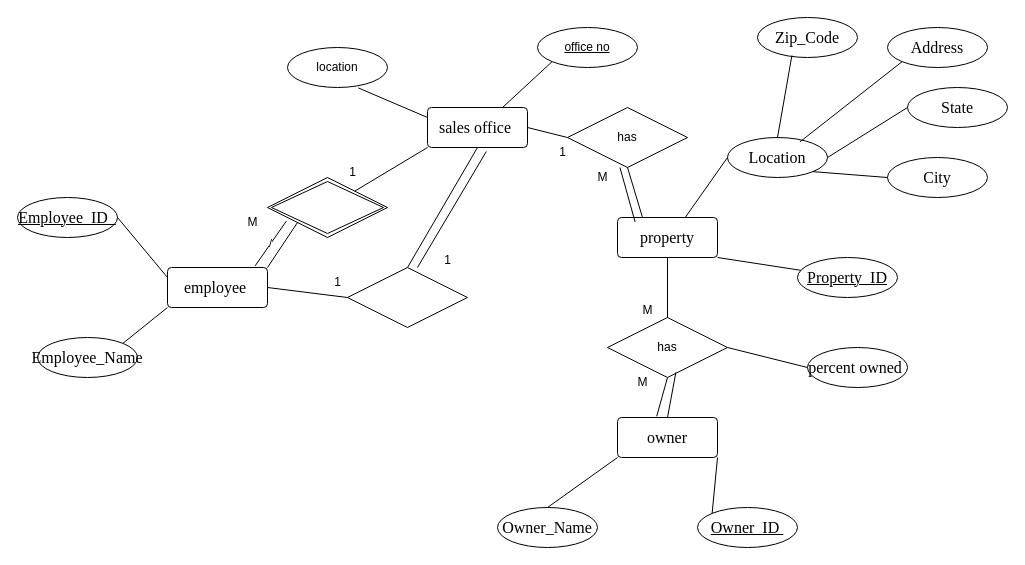
This 1025x565 diagram has some shape labels left out. Here are the shapes that lost their labels. From the top down, the centre of each, then its label:
pixel 327 207: work in
pixel 407 297: Manage
